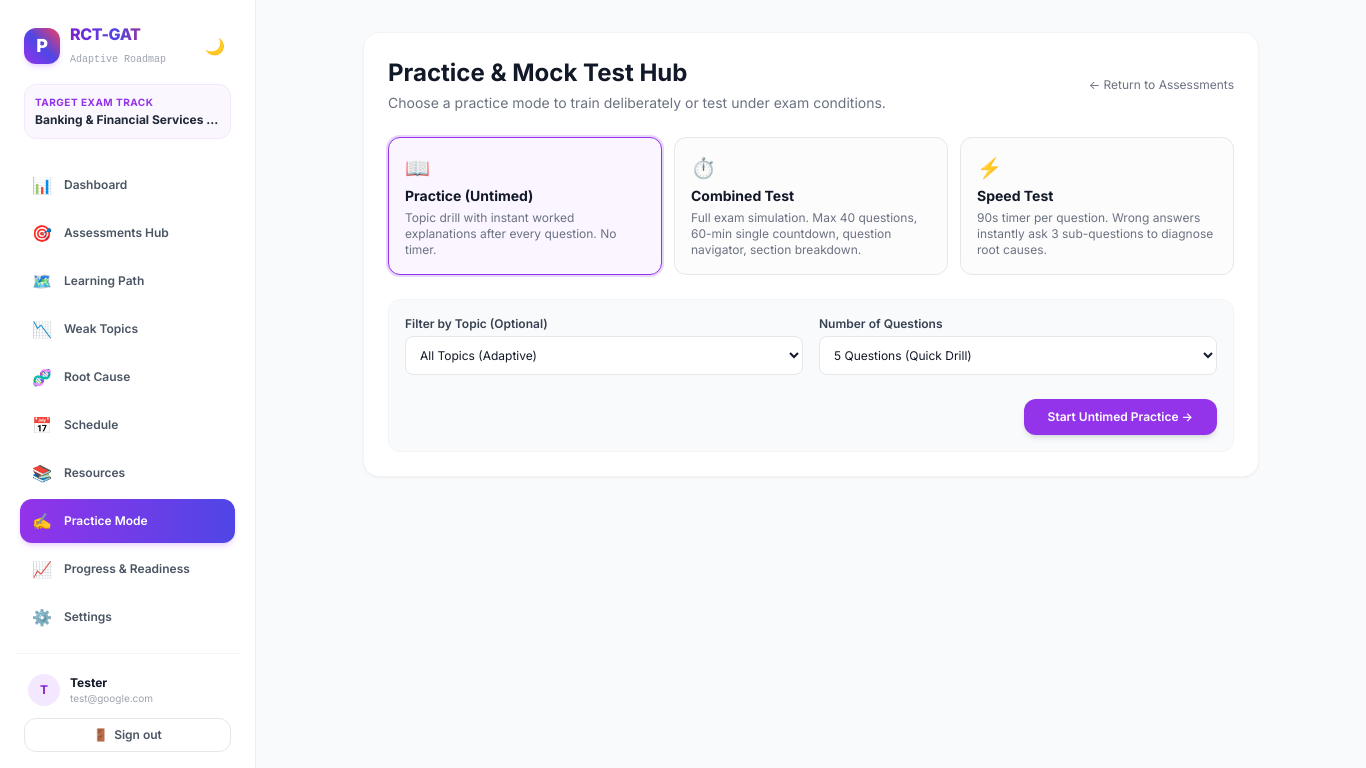
Test: PracticeMode: 3 Interactive Modes › 1. Mode 1 - Practice (untimed): topic/count select, no timer, reveals worked explanation
Expected: the heading "Practice & Mock Test Hub" is shown, [388, 58, 687, 87]
Expected: the button with test id "mode-tab-untimed" is shown, [388, 137, 662, 275]
// Click Start Practice
Click the button with test id "start-practice-btn".
click(1120, 417)  # box [1024, 399, 1217, 435]
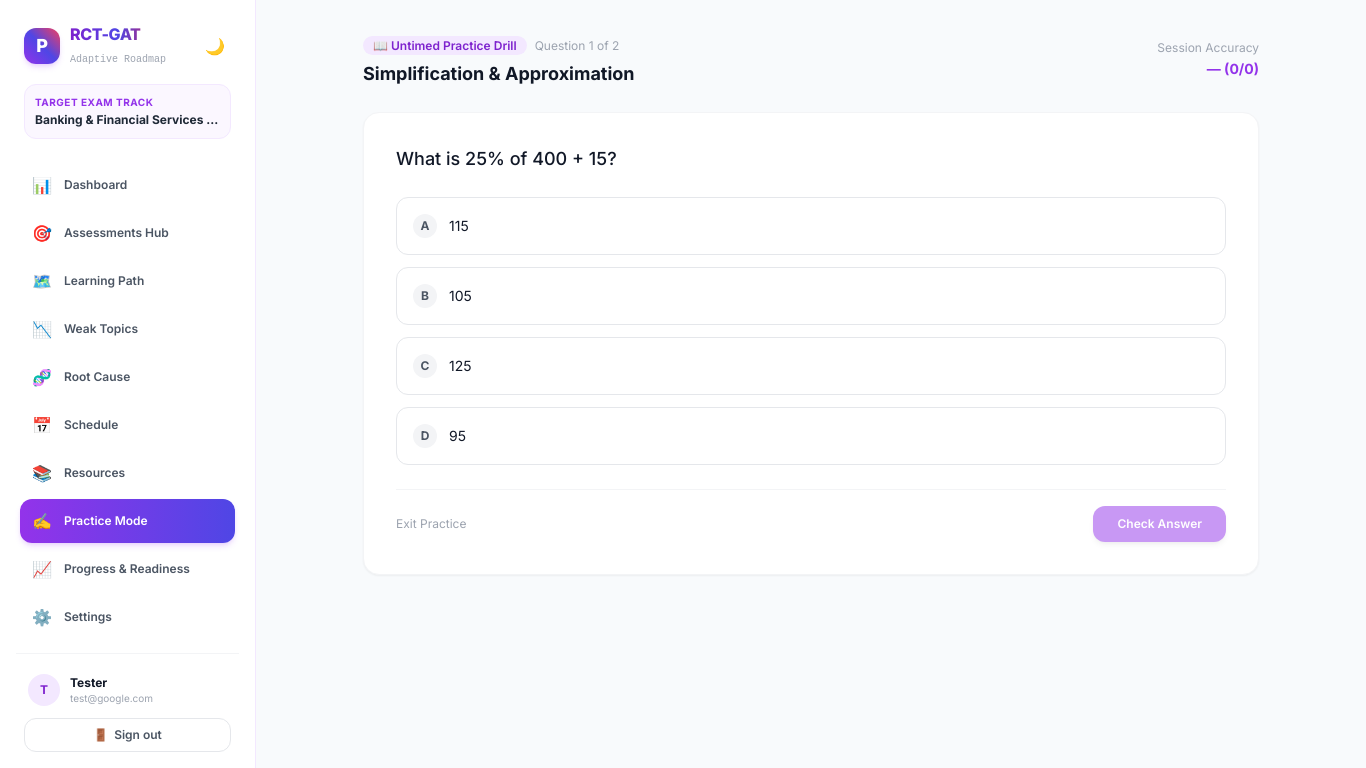
Expected: the text "Question 1 of 2" is shown, [535, 38, 619, 53]
Expected: the text "What is 25% of 400 + 15?" is shown, [396, 148, 617, 169]
Expected: the text "115" is shown
// Select option A and click Check Answer
Click the text "115".
click(459, 226)  # box [449, 216, 469, 236]
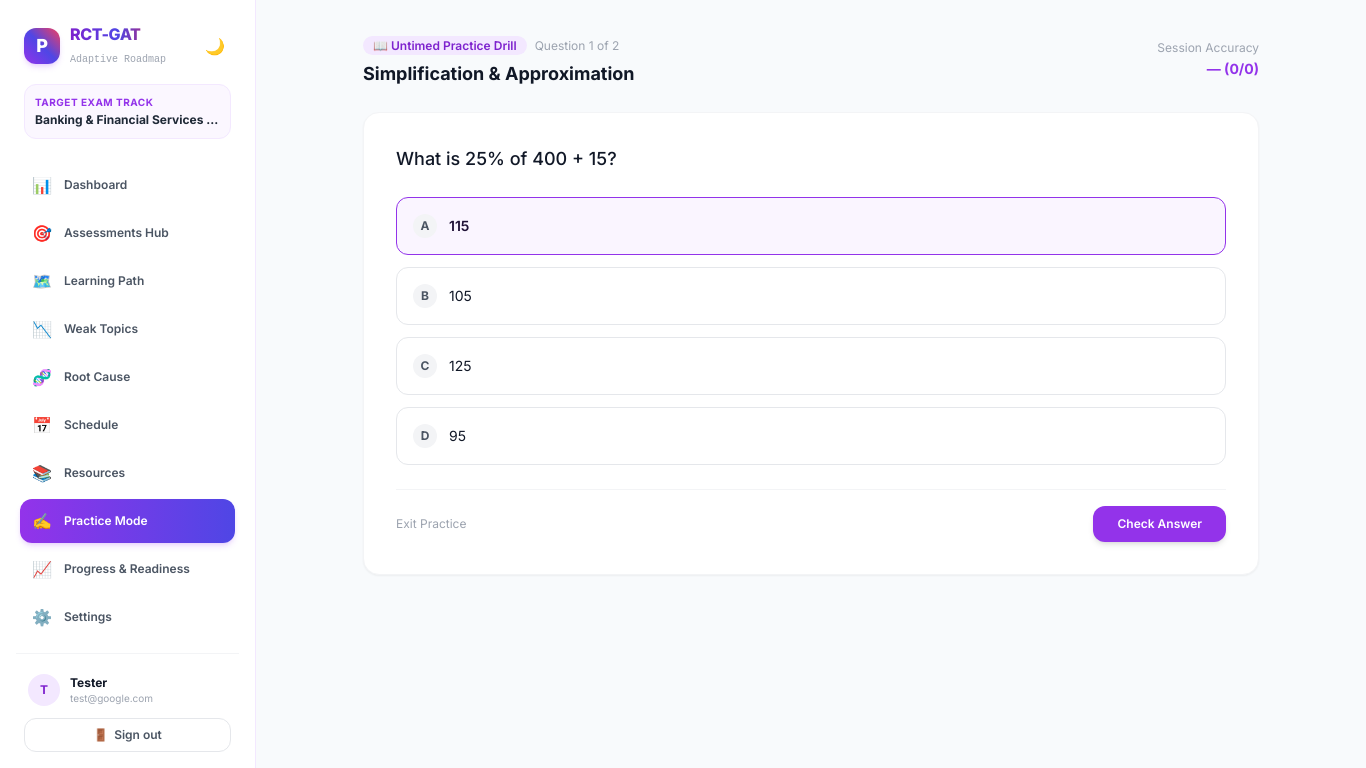
Click the button with test id "check-answer-btn".
click(1160, 524)  # box [1094, 506, 1226, 542]
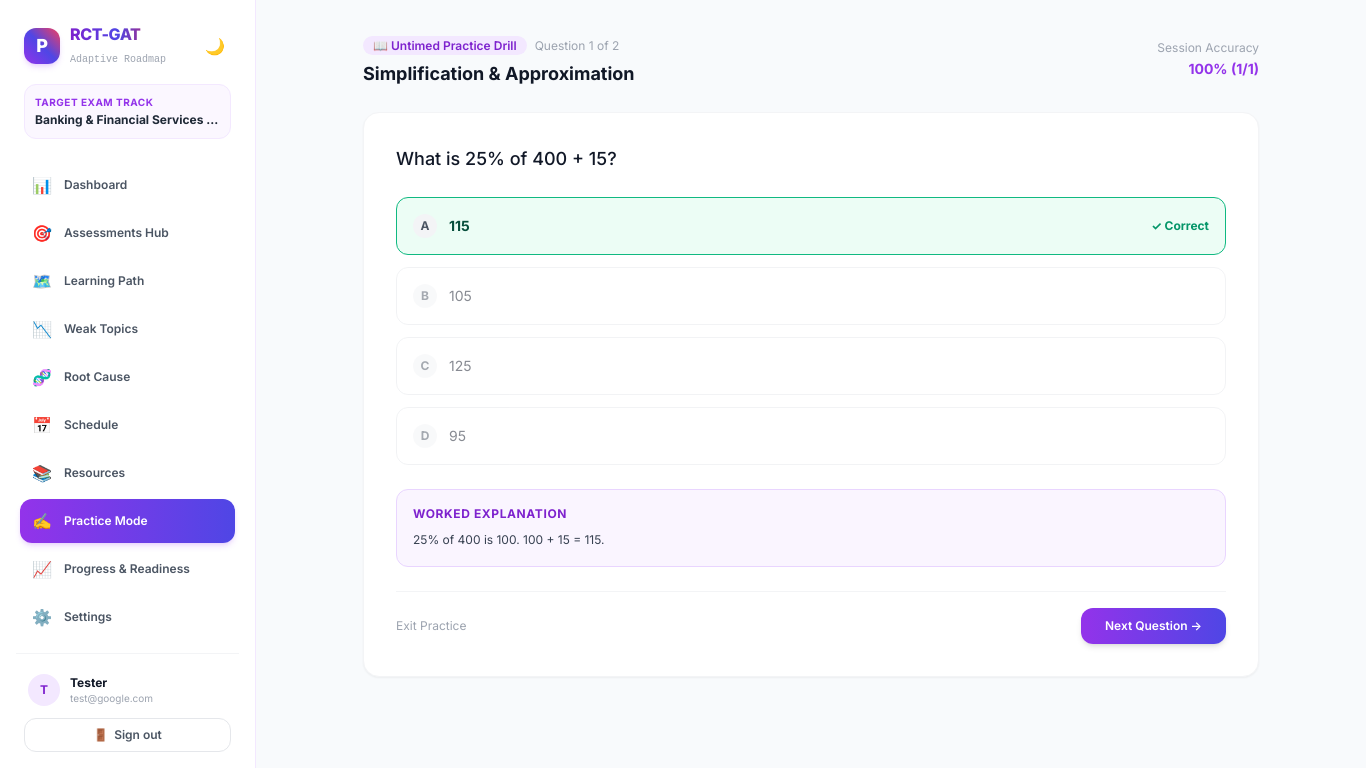
Expected: the element with test id "worked-explanation-card" is shown, [396, 489, 1226, 566]
Expected: the text "25% of 400 is 100. 100 + 15 = 115." is shown, [413, 532, 604, 547]
Expected: the text "✓ Correct" is shown, [1151, 218, 1209, 234]
// Click Next Question
Click the button with test id "next-untimed-btn".
click(1154, 626)  # box [1081, 608, 1226, 644]
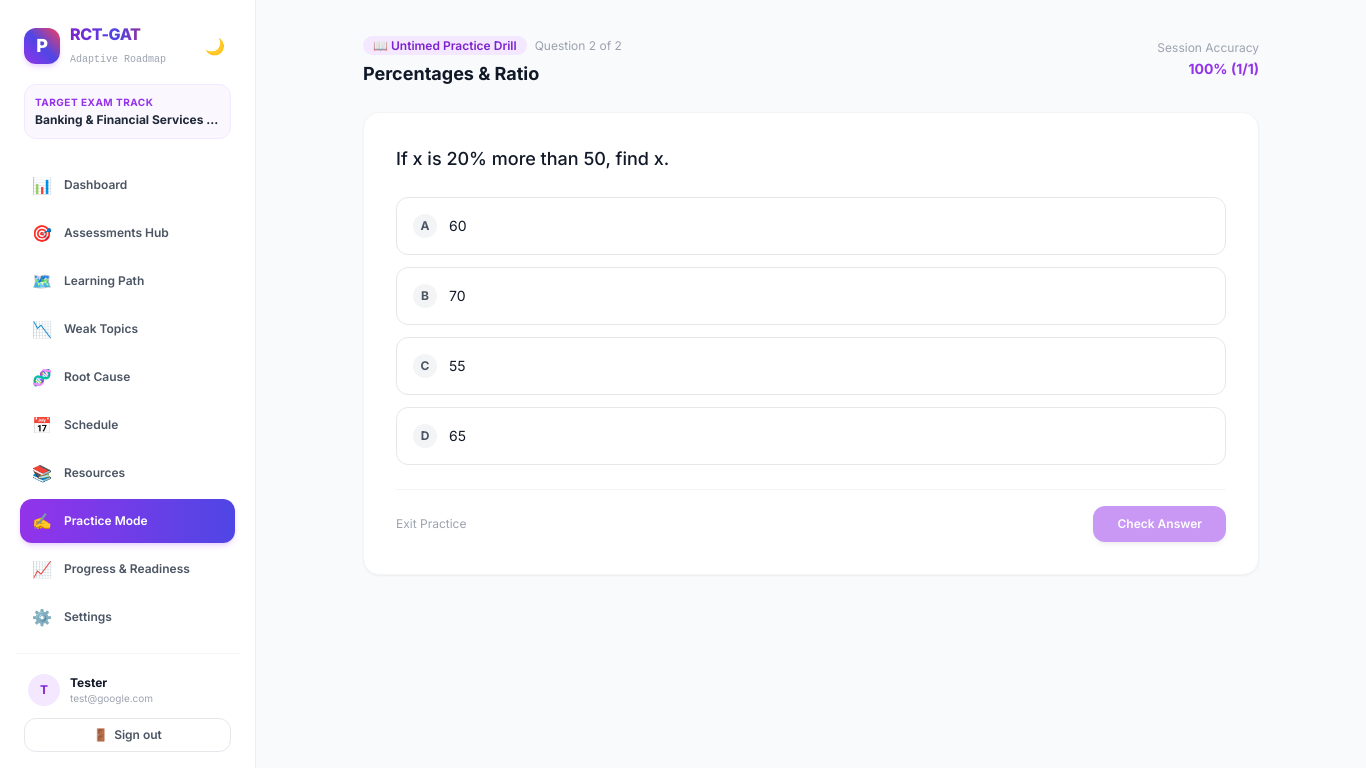
Expected: the text "Question 2 of 2" is shown, [535, 38, 622, 53]
Expected: the text "If x is 20% more than 50, find x." is shown, [396, 148, 669, 169]
